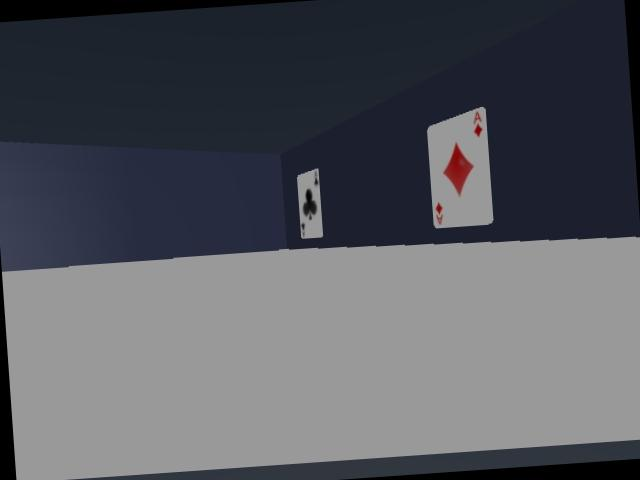club: (297, 170, 322, 238)
diamond: (427, 108, 492, 227)
